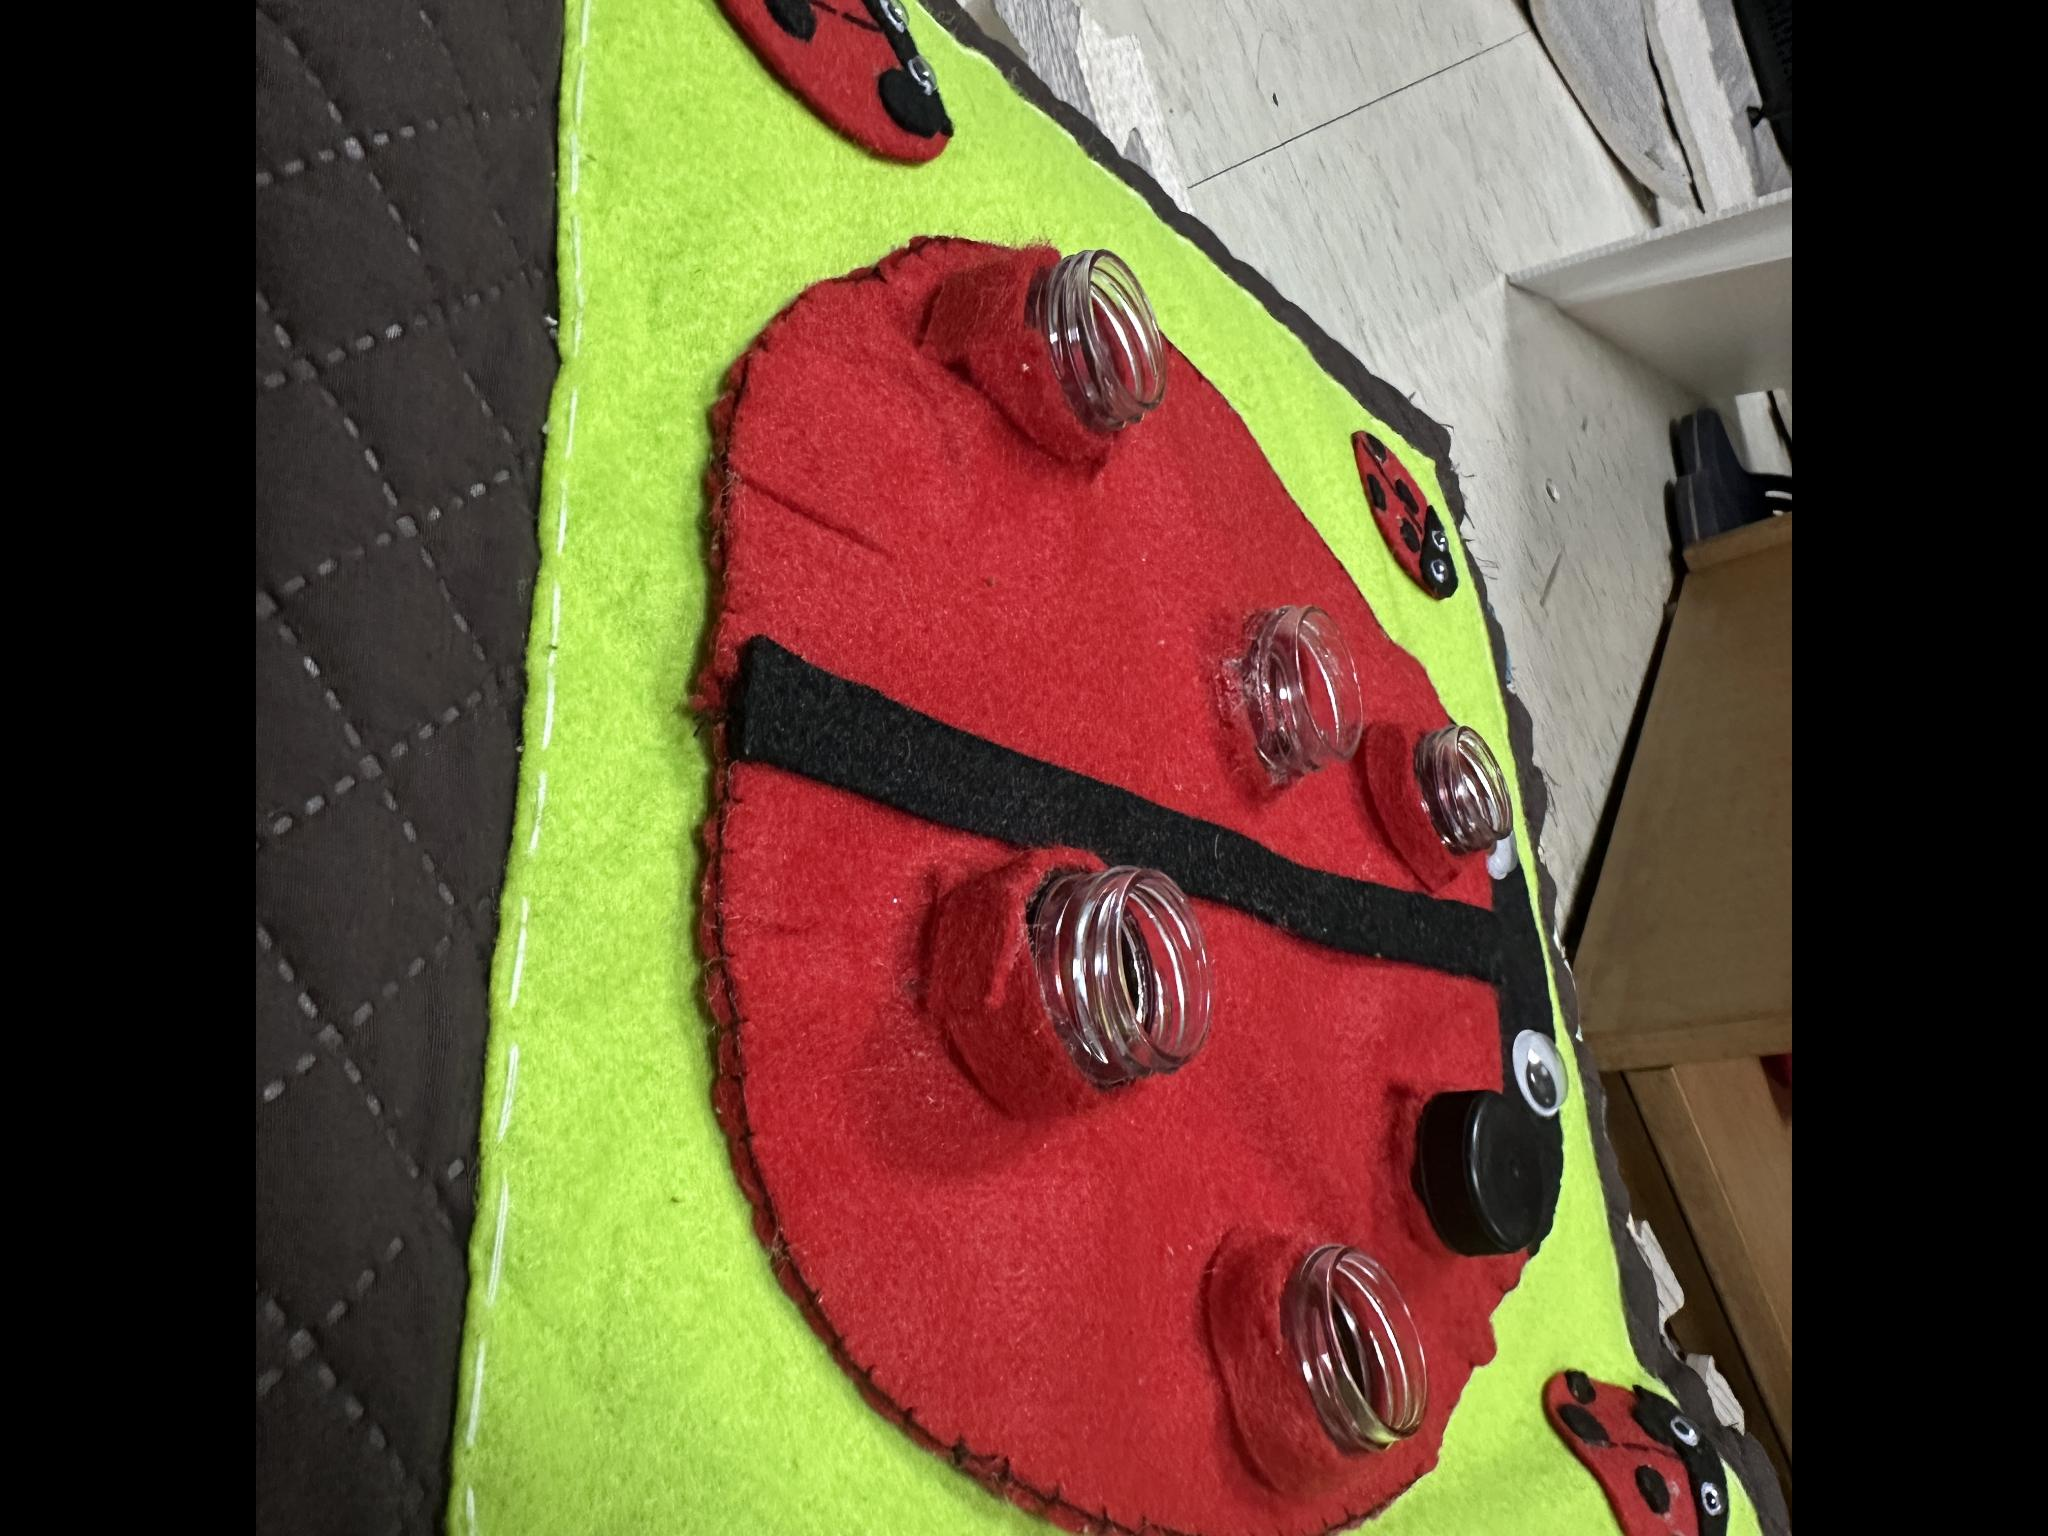cap_ok: (1379, 1058, 1567, 1263)
